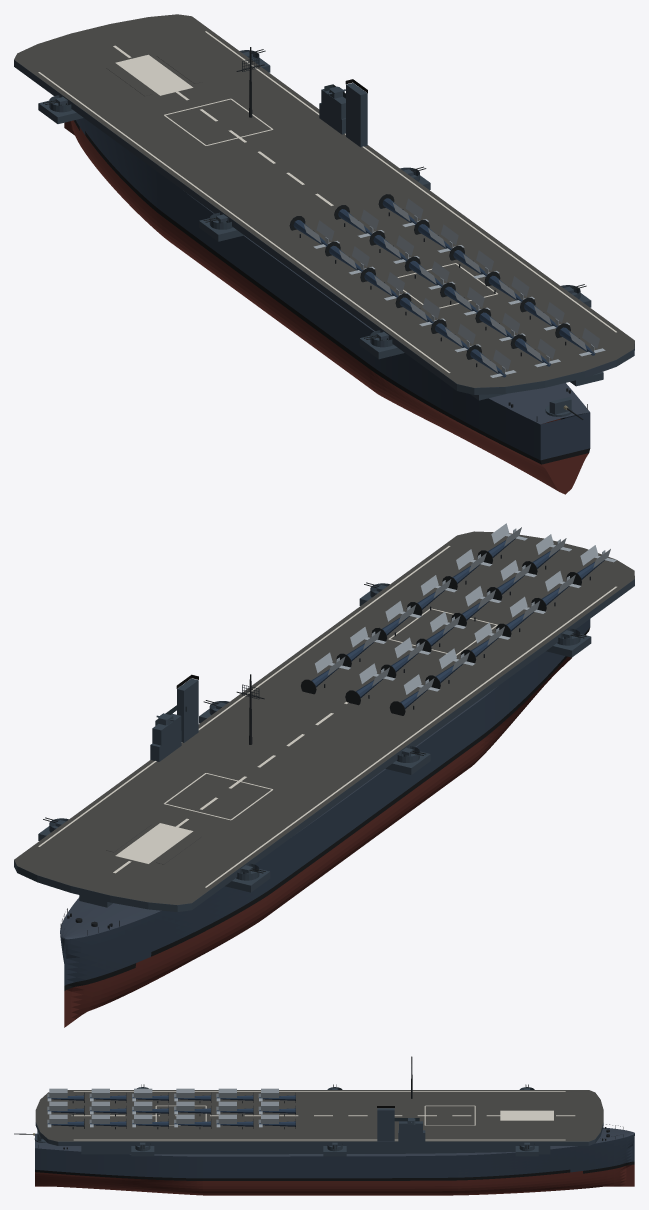
The model's file is casablanca.glb.
3 renders of one model, top to bottom at view 1: azimuth 30°, elevation 25°; view 2: azimuth 150°, elevation 25°; view 3: azimuth 270°, elevation 25°, orthographic. The views are drawn at different scales.
Visible parts, largest first — view 1: Hull; view 2: Hull; view 3: Hull.
Boxes of the visible parts, bbox=[...] form: Hull: bbox=[14, 14, 634, 494]; Hull: bbox=[14, 523, 634, 1027]; Hull: bbox=[35, 1056, 634, 1195].
Bounding box in the file's own units: 39.6 × 37.3 × 162.
